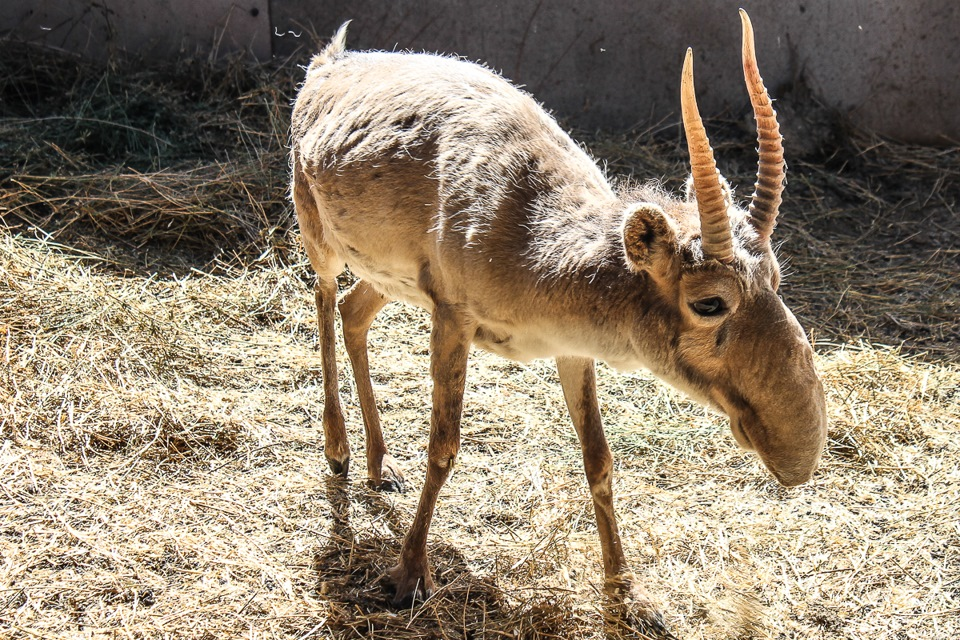saiga: (284, 6, 831, 639)
